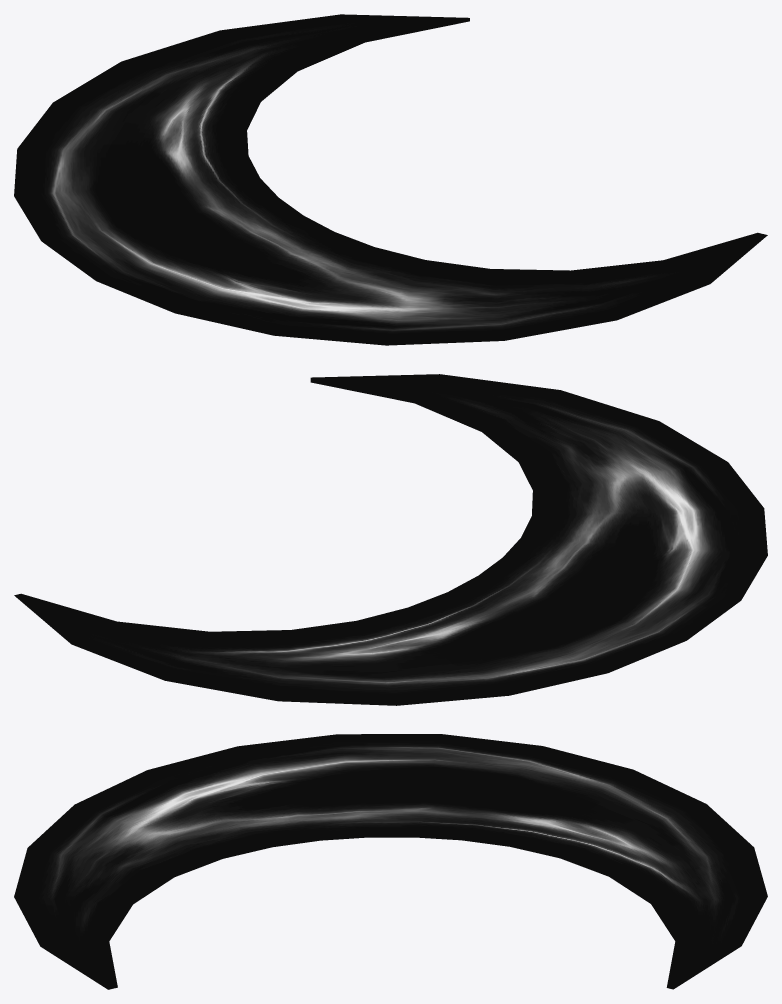
The picture shows the model from 3 angles, top to bottom: view 1: azimuth 30°, elevation 25°; view 2: azimuth 150°, elevation 25°; view 3: azimuth 270°, elevation 25°; orthographic projection. The views are drawn at different scales.
Bounding box in the file's own units: 1.77 × 1.23e-05 × 2.2.
1 material, 1 textured.
